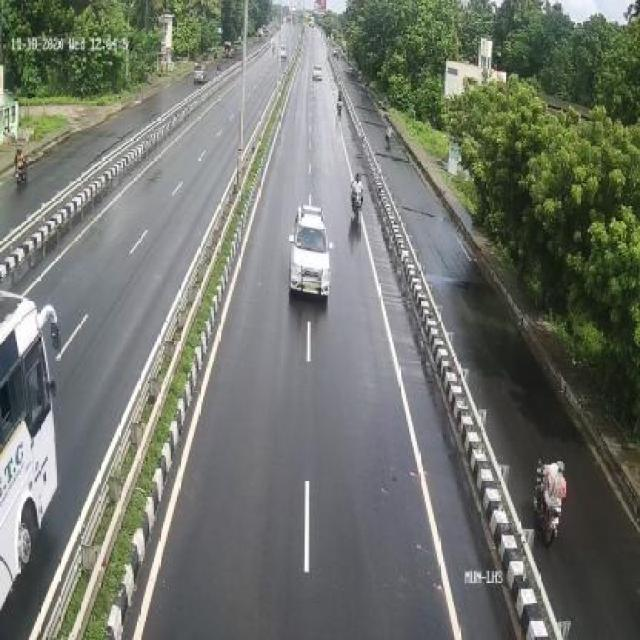car: (290, 197, 336, 308)
